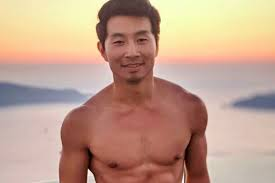person: (96, 1, 161, 83)
